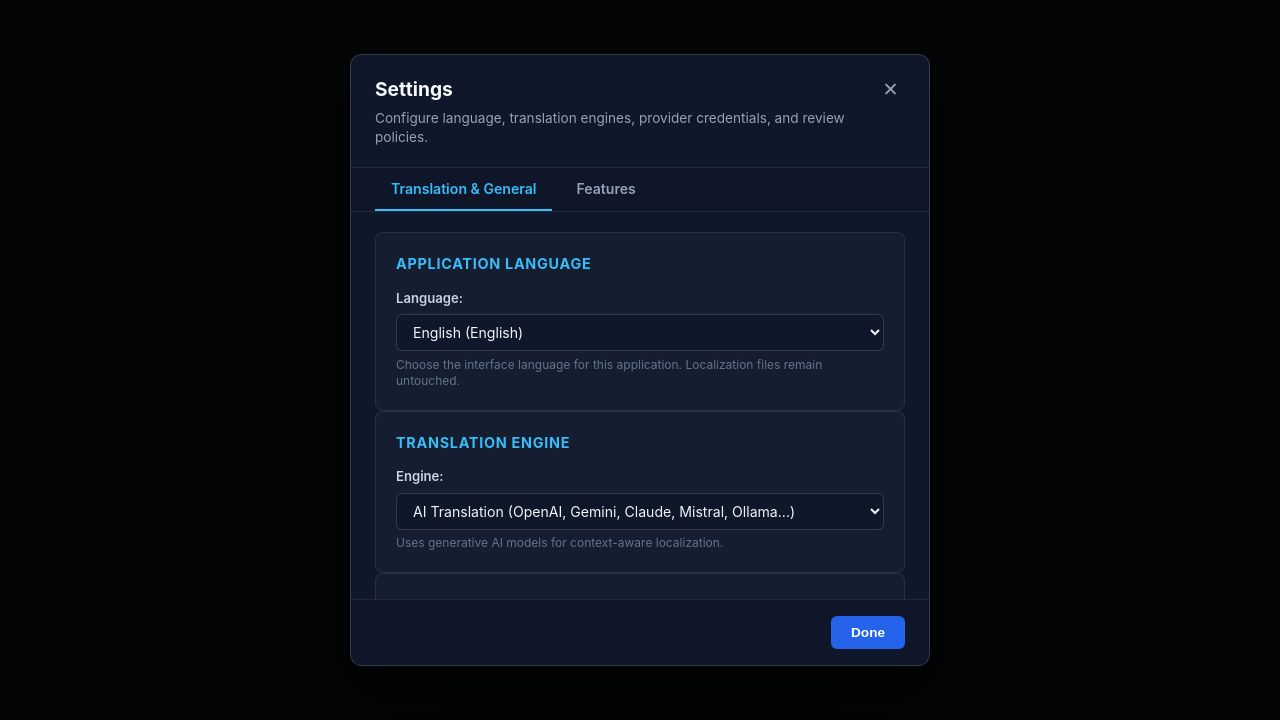
SettingsModal - Features Tab & Dynamic Toggles › switches to Features tab when clicked and displays intro banner
Click the tab "Features": (606, 190) [560,168,652,212]
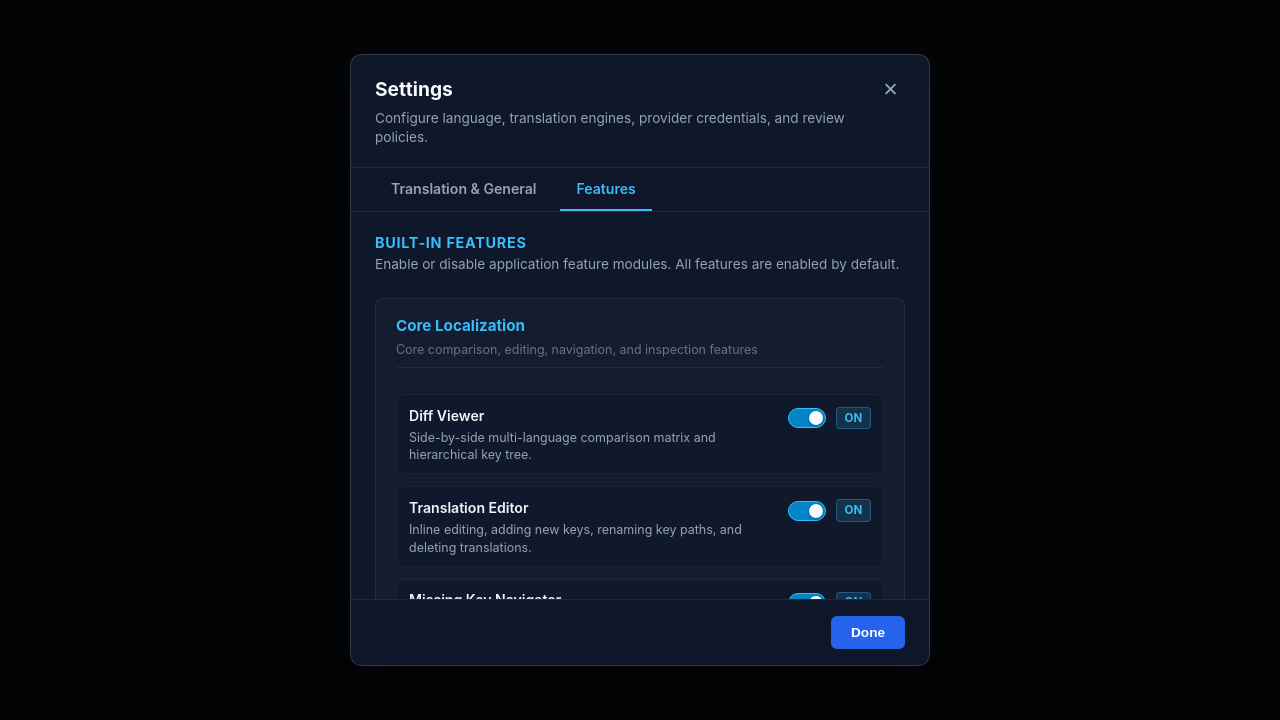
Expected: the heading "Built-in Features" is shown, [375,234,527,252]
